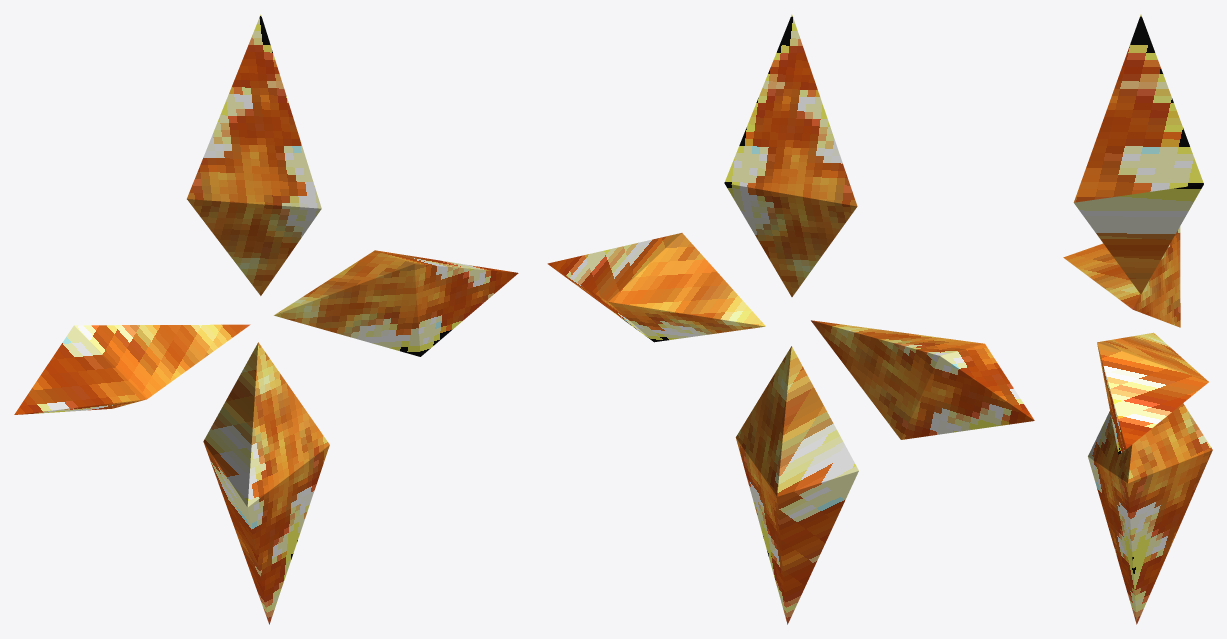
The model's file is flare.glb.
3 renders of one model, left to right at view 1: azimuth 30°, elevation 25°; view 2: azimuth 150°, elevation 25°; view 3: azimuth 270°, elevation 25°, orthographic.
Visible parts, largest first — view 1: Sphere; view 2: Sphere; view 3: Sphere.
Part boxes in pixels (x1,y1,x2,y2): Sphere: (14, 14, 518, 624); Sphere: (547, 14, 1034, 624); Sphere: (1063, 14, 1212, 624).
Size of the model in its own units: 1.71 by 2.02 by 0.4501.
1 material, 1 textured.
